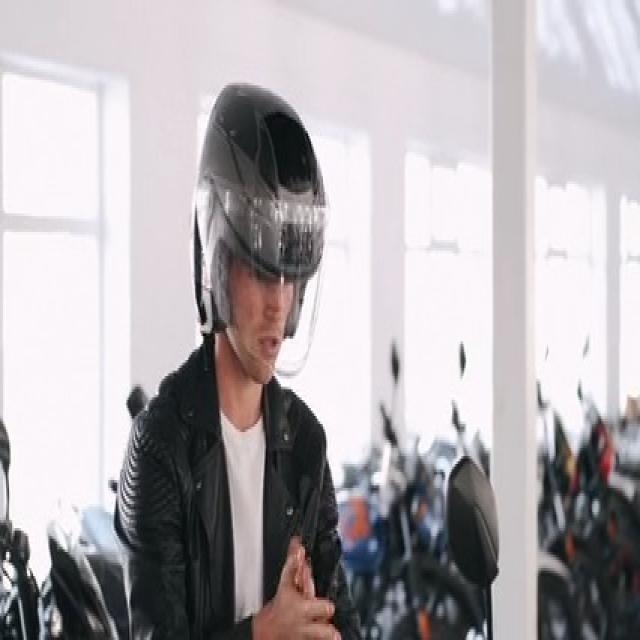Helmet_Wearer: (186, 79, 331, 415)
Jacket_Wearer: (117, 315, 340, 640)
Person: (114, 68, 360, 640)
